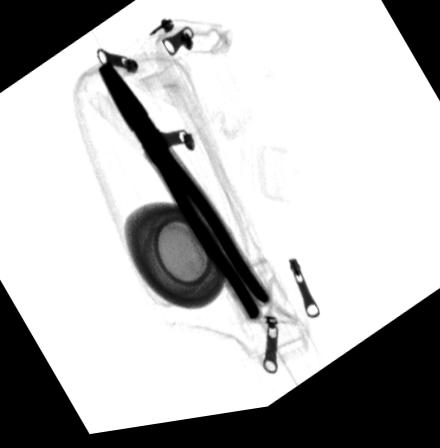Pliers: (97, 61, 273, 329)
